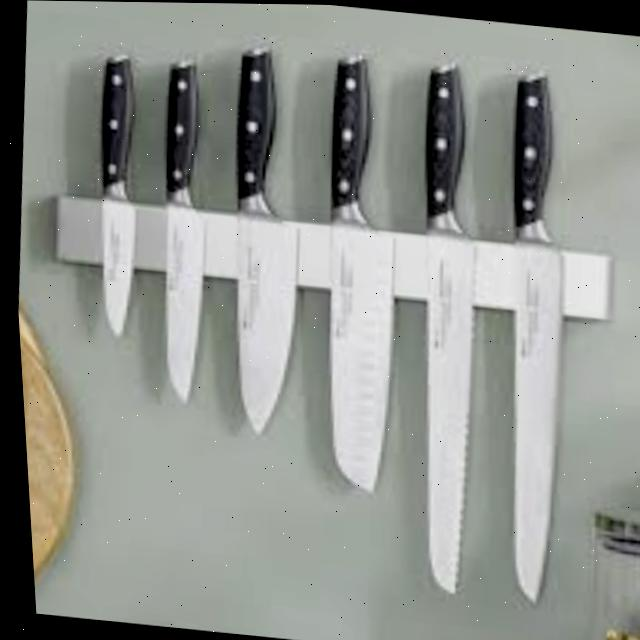Knife: (378, 57, 502, 593), (467, 69, 591, 603), (293, 49, 417, 493), (201, 39, 319, 435), (136, 57, 223, 402), (75, 49, 152, 336)
